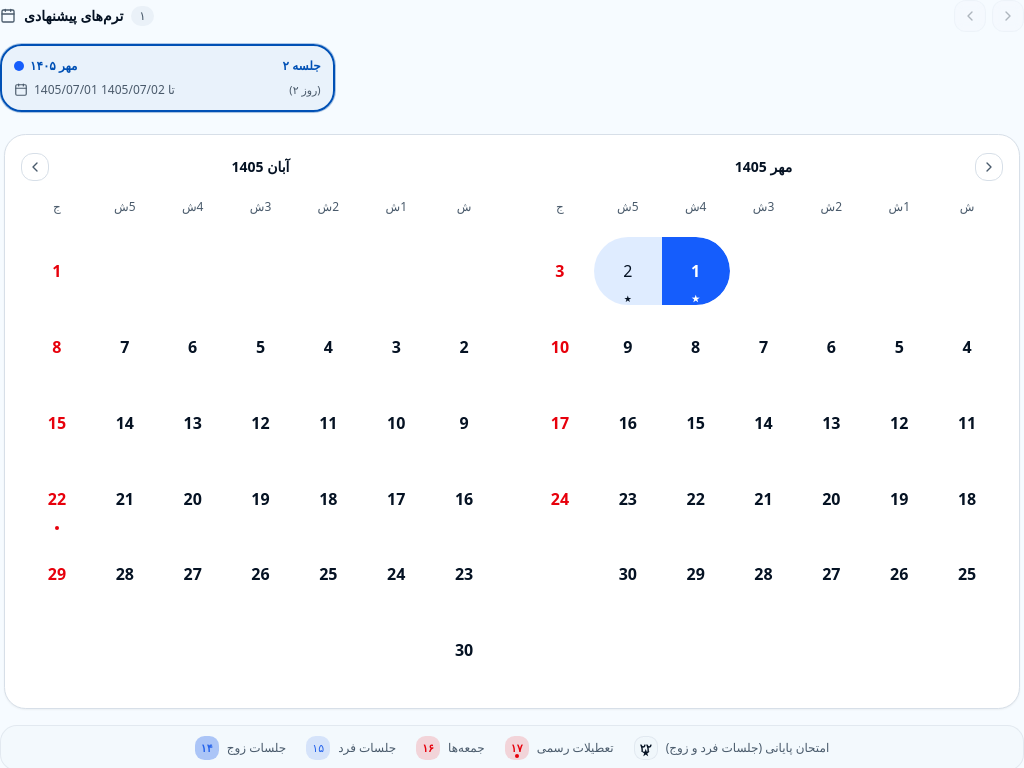
ProposalsCalendar Component › renders exam badge in DayActionsPopover when clicking an exam day
The image size is (1024, 768).
Click the button "1" below "مهر 1405". click: (696, 271)
box: 662,237 -> 730,305
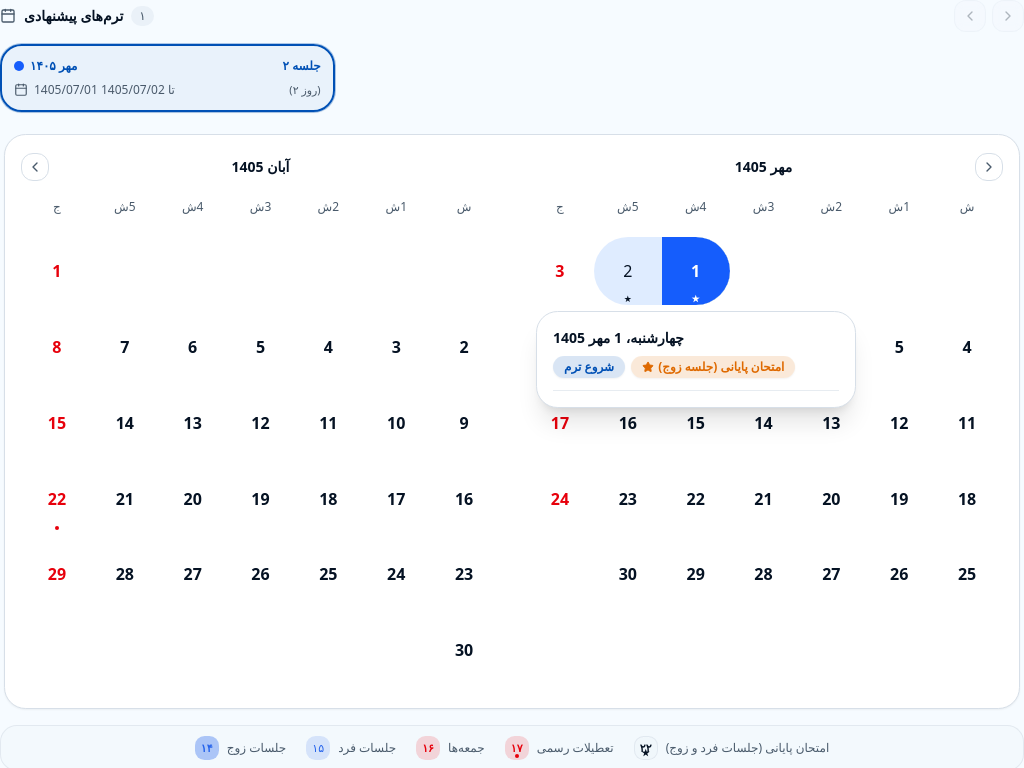
Now the text "امتحان پایانی (جلسه زوج)" is shown, box 658,359 -> 784,375
